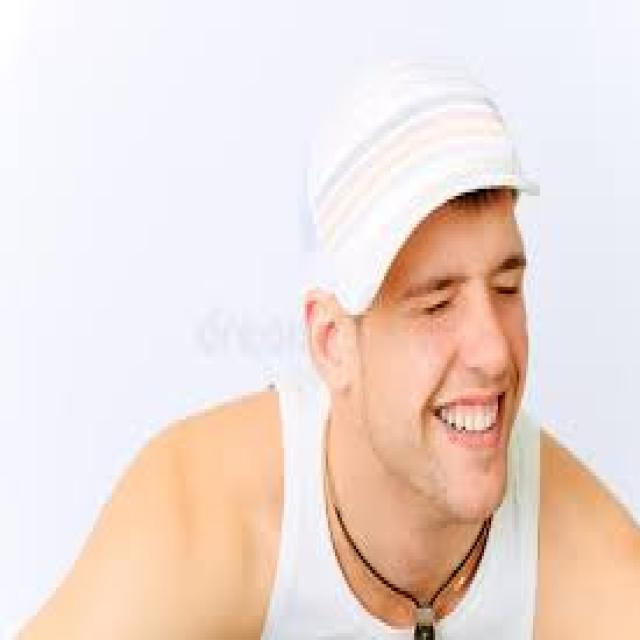cap: (286, 42, 549, 525)
